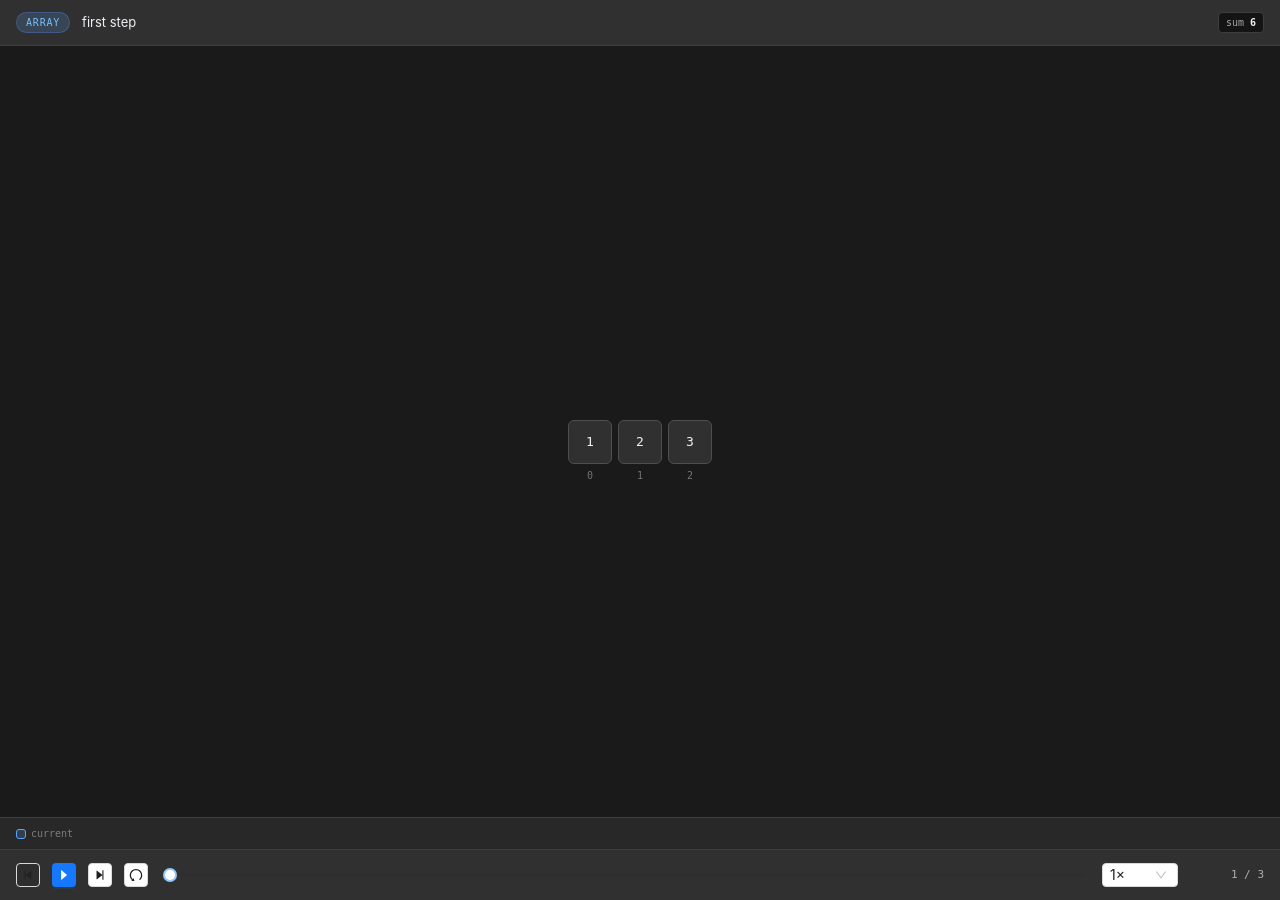
Scenario: VisualizerPanel › steps forward and backward through the timeline
Step 1. Click the button named "Next step" → (100, 875), box [88,863,112,887]
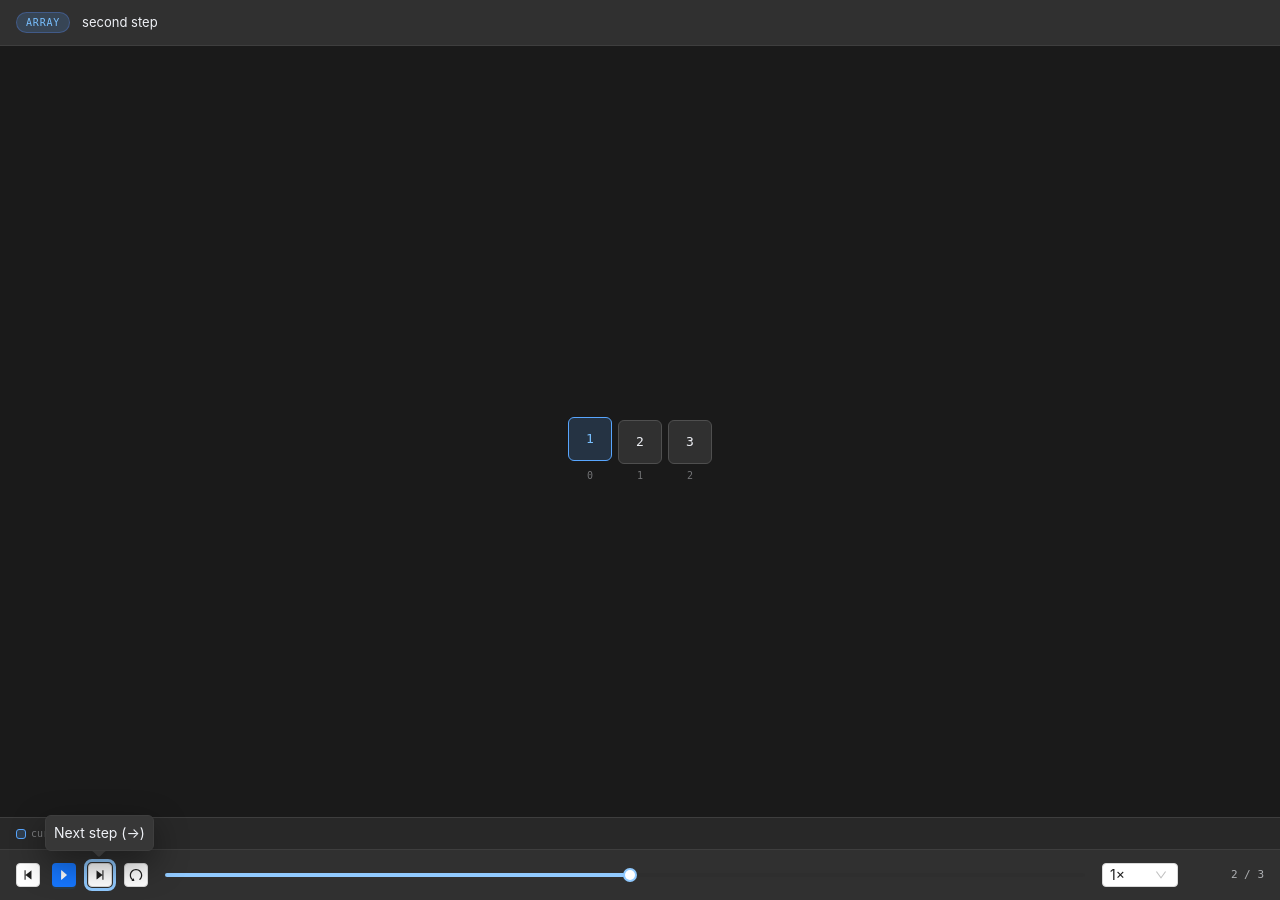
Expected: the text "2 / 3" is shown, [1231,868,1264,881]
Expected: the text "second step" is shown, [82,14,158,30]
Step 2. Click the button named "Previous step" → (28, 875), box [16,863,40,887]
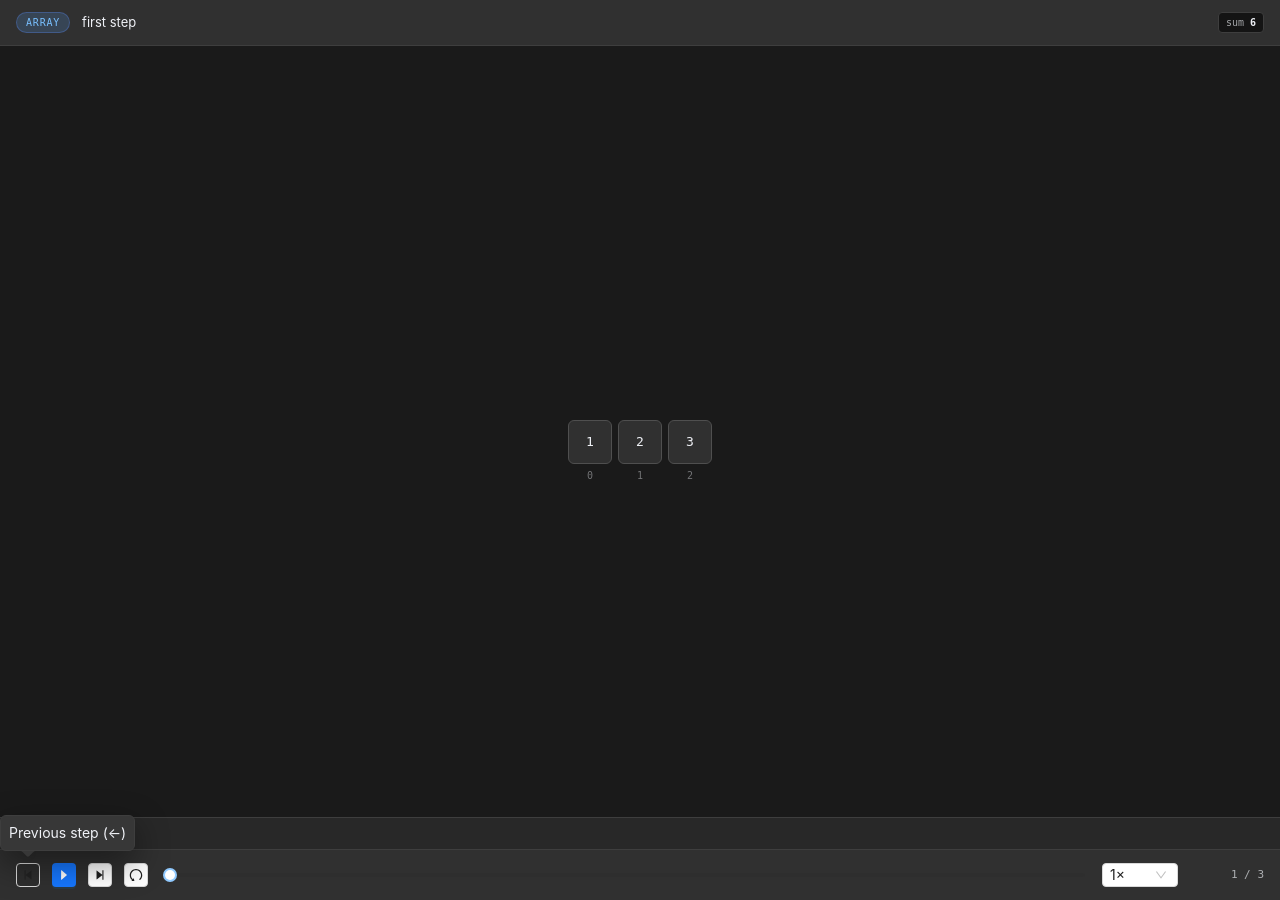
Expected: the text "1 / 3" is shown, [1231,868,1264,881]
